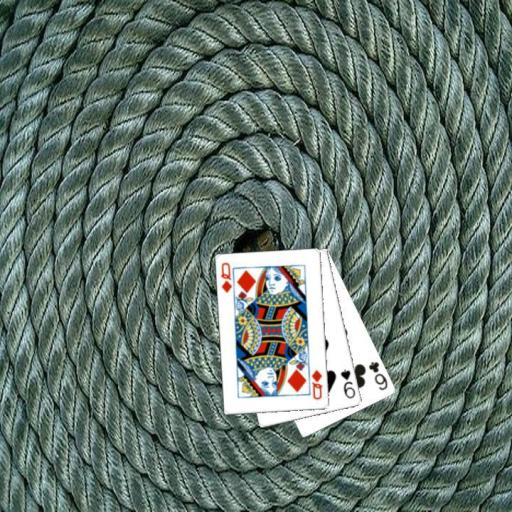6C: (366, 358, 390, 392)
9S: (338, 367, 357, 401)
QD: (218, 260, 233, 295), (309, 367, 324, 401)
